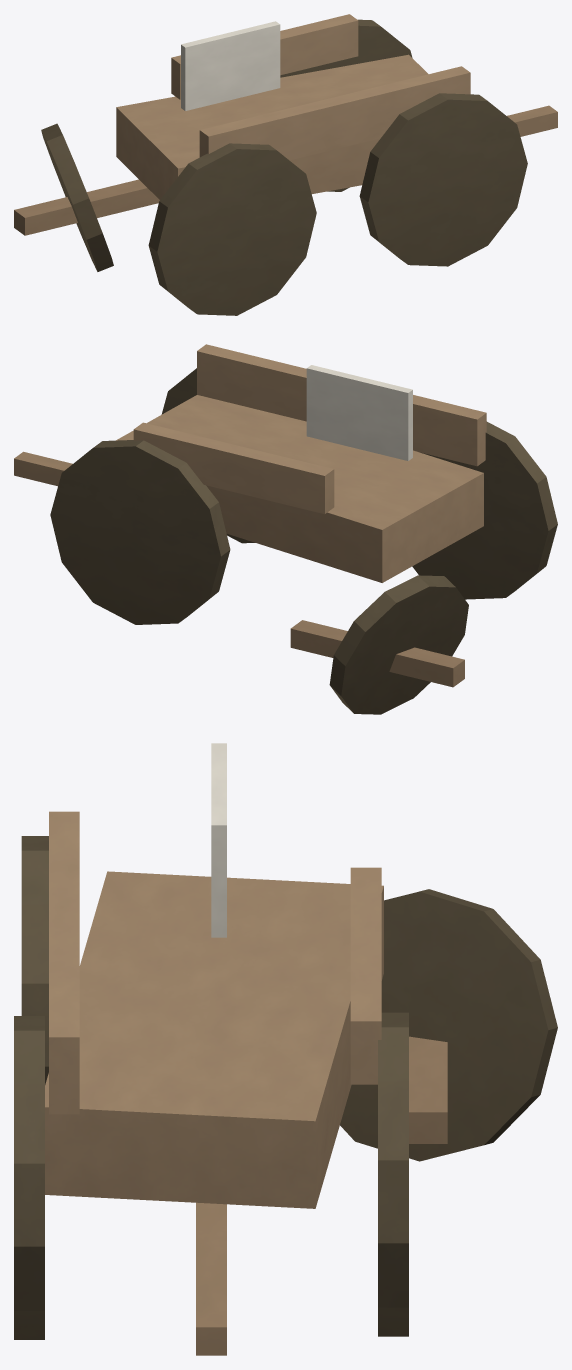
The model's file is wagon_wreck_hero.glb.
3 renders of one model, top to bottom at view 1: azimuth 30°, elevation 25°; view 2: azimuth 150°, elevation 25°; view 3: azimuth 270°, elevation 25°, orthographic. The views are drawn at different scales.
Visible parts, largest first — view 1: wagon_wreck_hero; view 2: wagon_wreck_hero; view 3: wagon_wreck_hero.
Boxes of the visible parts, box(x1,y1,x2,y2) form: wagon_wreck_hero: box(14, 14, 557, 315); wagon_wreck_hero: box(14, 344, 557, 714); wagon_wreck_hero: box(14, 743, 557, 1355).
Bounding box in the file's own units: 2.49 × 1.26 × 1.41.
1 material, 1 textured.
